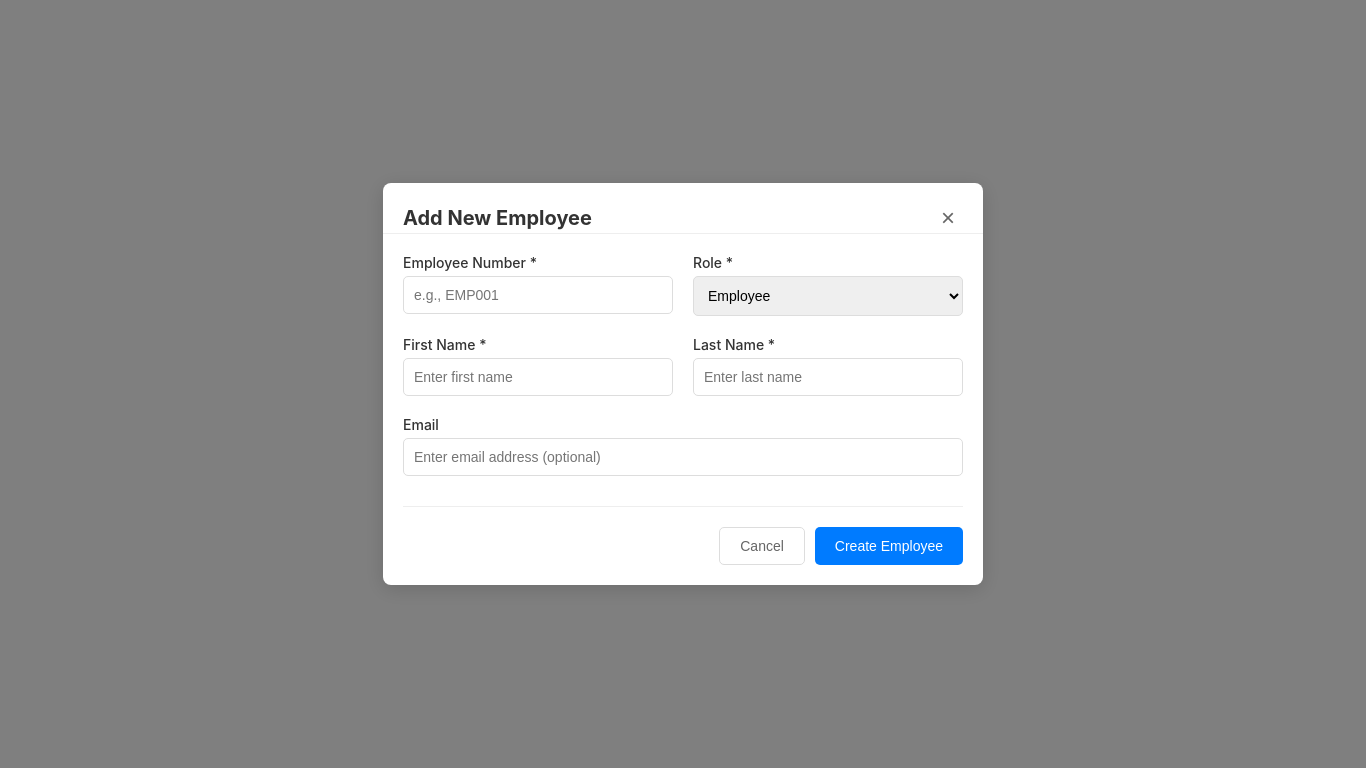
Test case: EmployeeForm › Create Employee Mode › validates employee number format
Note: Fill in valid first and last name to isolate employee number validation
Type "John" into the field labelled "First Name *".
click(538, 377); type("John")  # box [403,358,673,396]
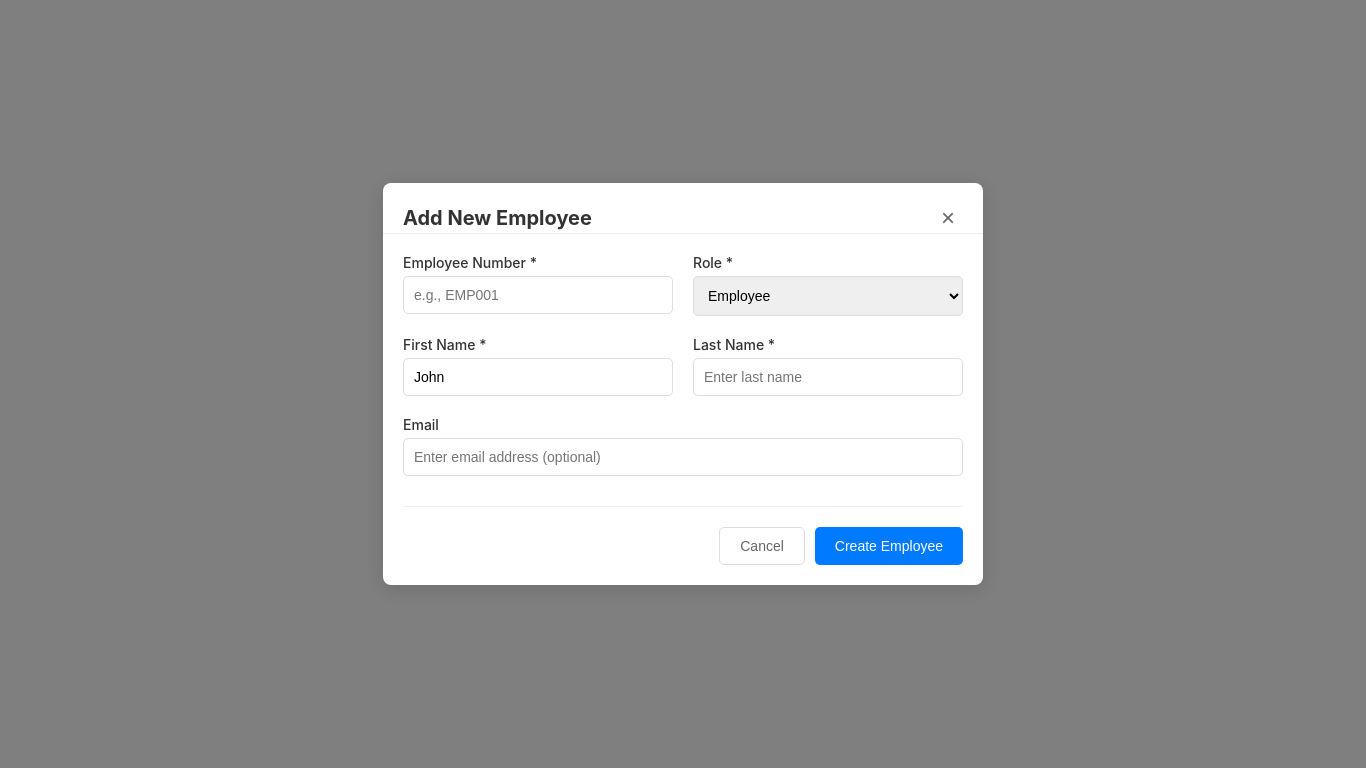
Type "Doe" into the field labelled "Last Name *".
click(828, 377); type("Doe")  # box [693,358,963,396]
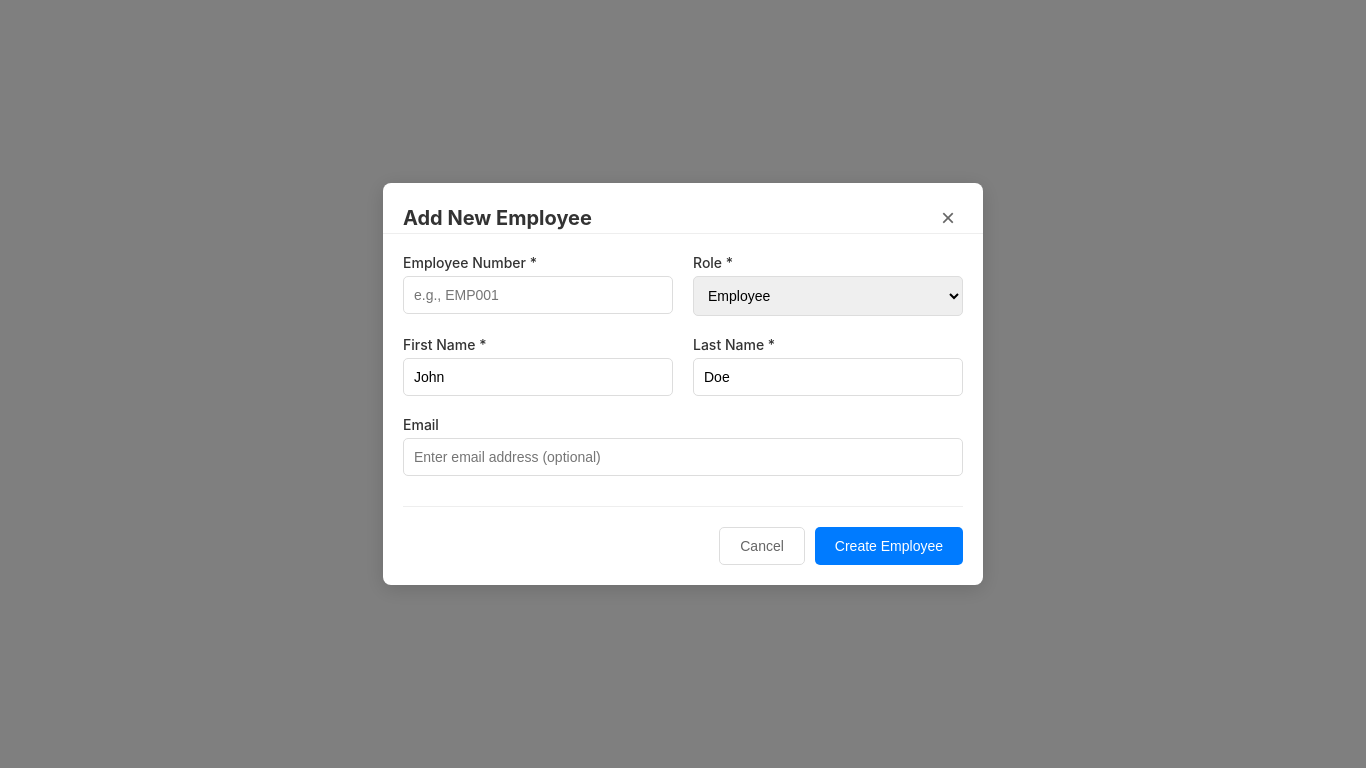
Type "ab" into the field labelled "Employee Number *".
click(538, 295); type("ab")  # box [403,276,673,314]
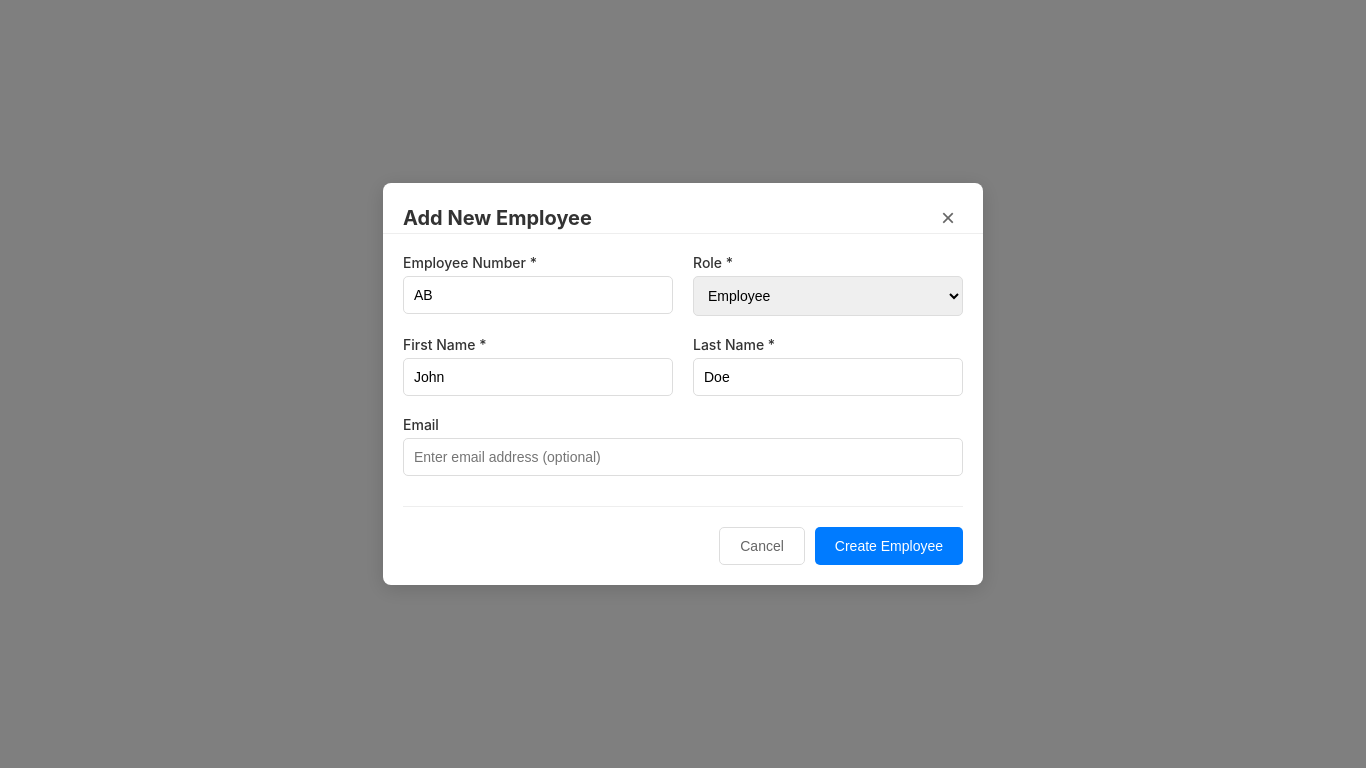
Click the button "Create Employee".
click(889, 546)  # box [815,527,963,565]
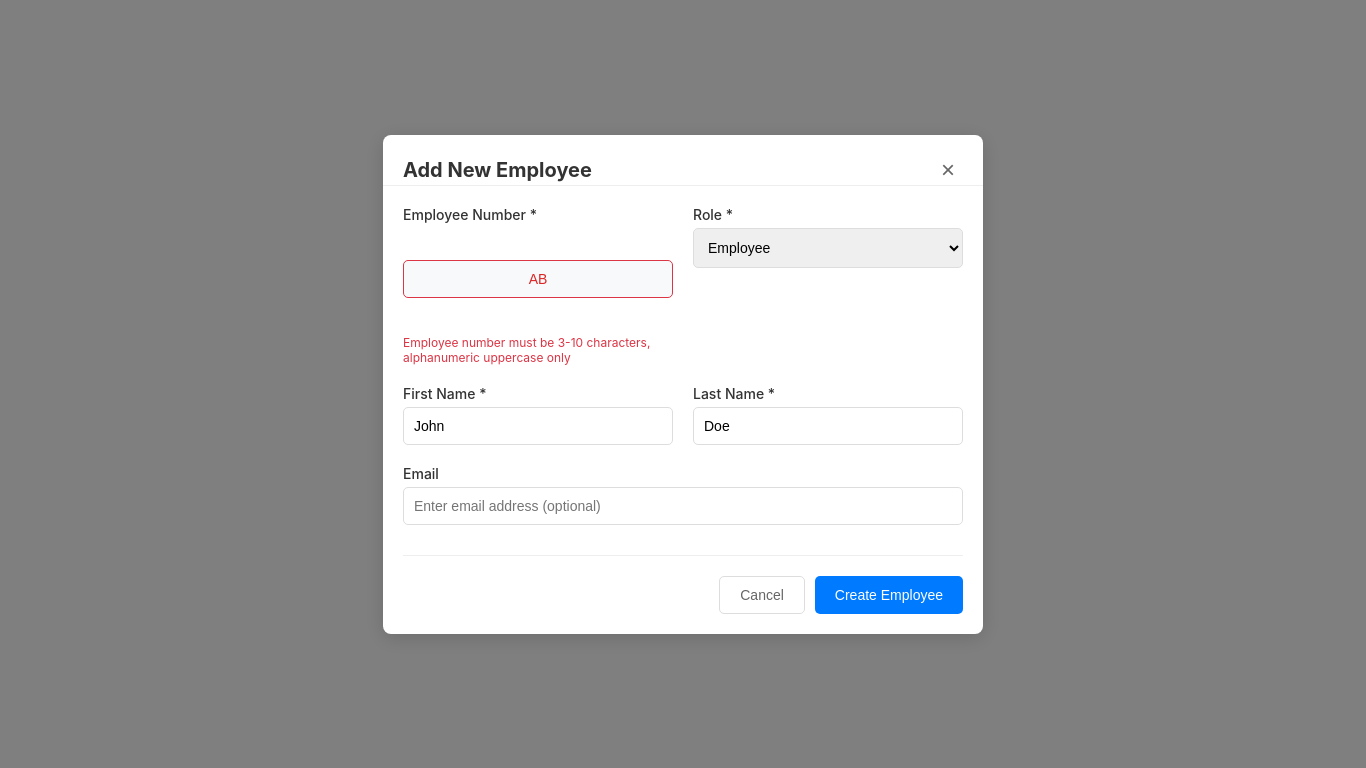
Expected: the text "Employee number must be 3-10 characters, alphanumeric uppercase only" is shown, [403,334,673,364]
